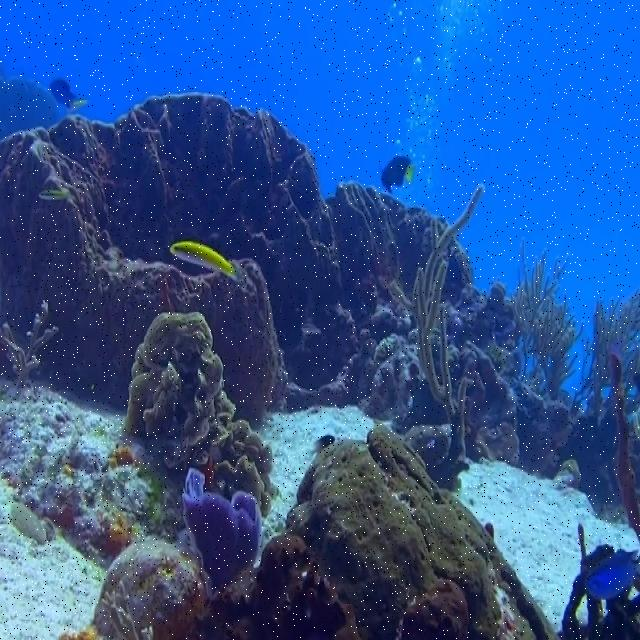fish: (172, 243, 244, 283), (585, 550, 639, 595), (51, 78, 89, 109), (380, 158, 413, 193)
reefs: (347, 184, 483, 488), (125, 313, 281, 517), (181, 473, 264, 587), (612, 354, 638, 529)
sea-floor: (0, 93, 639, 540), (63, 427, 555, 639)
